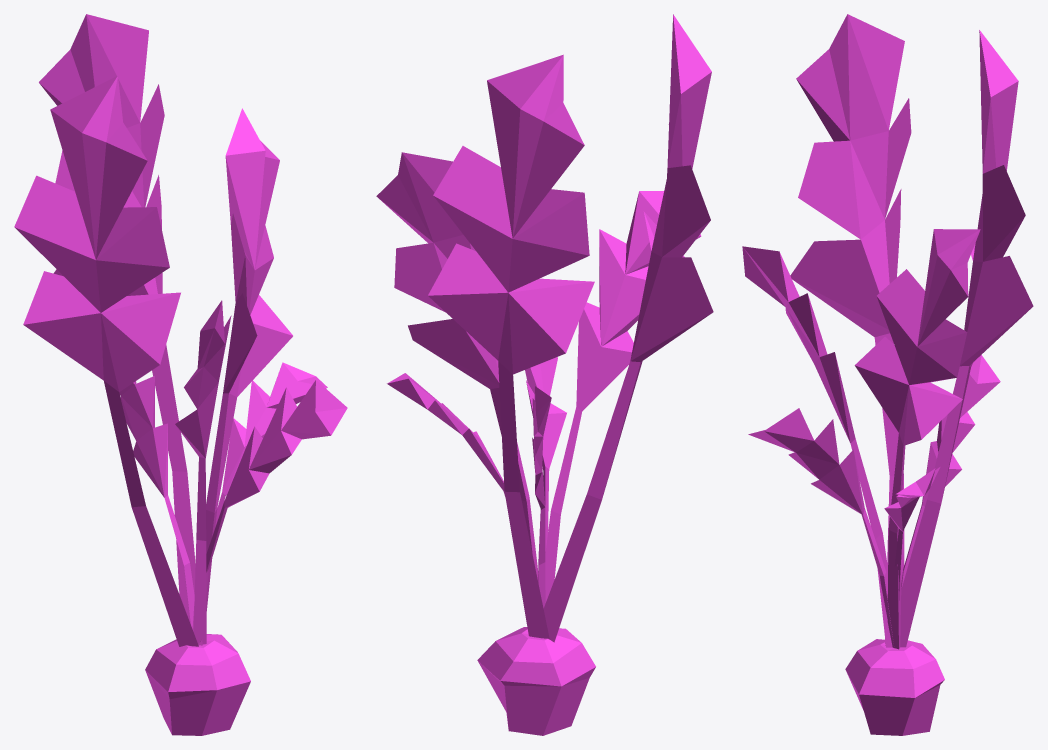
Rendered from SM_Parsnip_Plant_Ripe_A.fbx.
3 renders of one model, left to right at view 1: azimuth 30°, elevation 25°; view 2: azimuth 150°, elevation 25°; view 3: azimuth 270°, elevation 25°, orthographic. The views are drawn at different scales.
Parts seen in each view (by area): view 1: SM_Parsnip_Plant_Ripe_A; view 2: SM_Parsnip_Plant_Ripe_A; view 3: SM_Parsnip_Plant_Ripe_A.
Boxes of the visible parts, box(x1,y1,x2,y2) form: SM_Parsnip_Plant_Ripe_A: box(14, 14, 347, 735); SM_Parsnip_Plant_Ripe_A: box(376, 14, 713, 735); SM_Parsnip_Plant_Ripe_A: box(742, 14, 1033, 735).
Size of the model in its own units: 0.3697 by 0.7975 by 0.3162.
